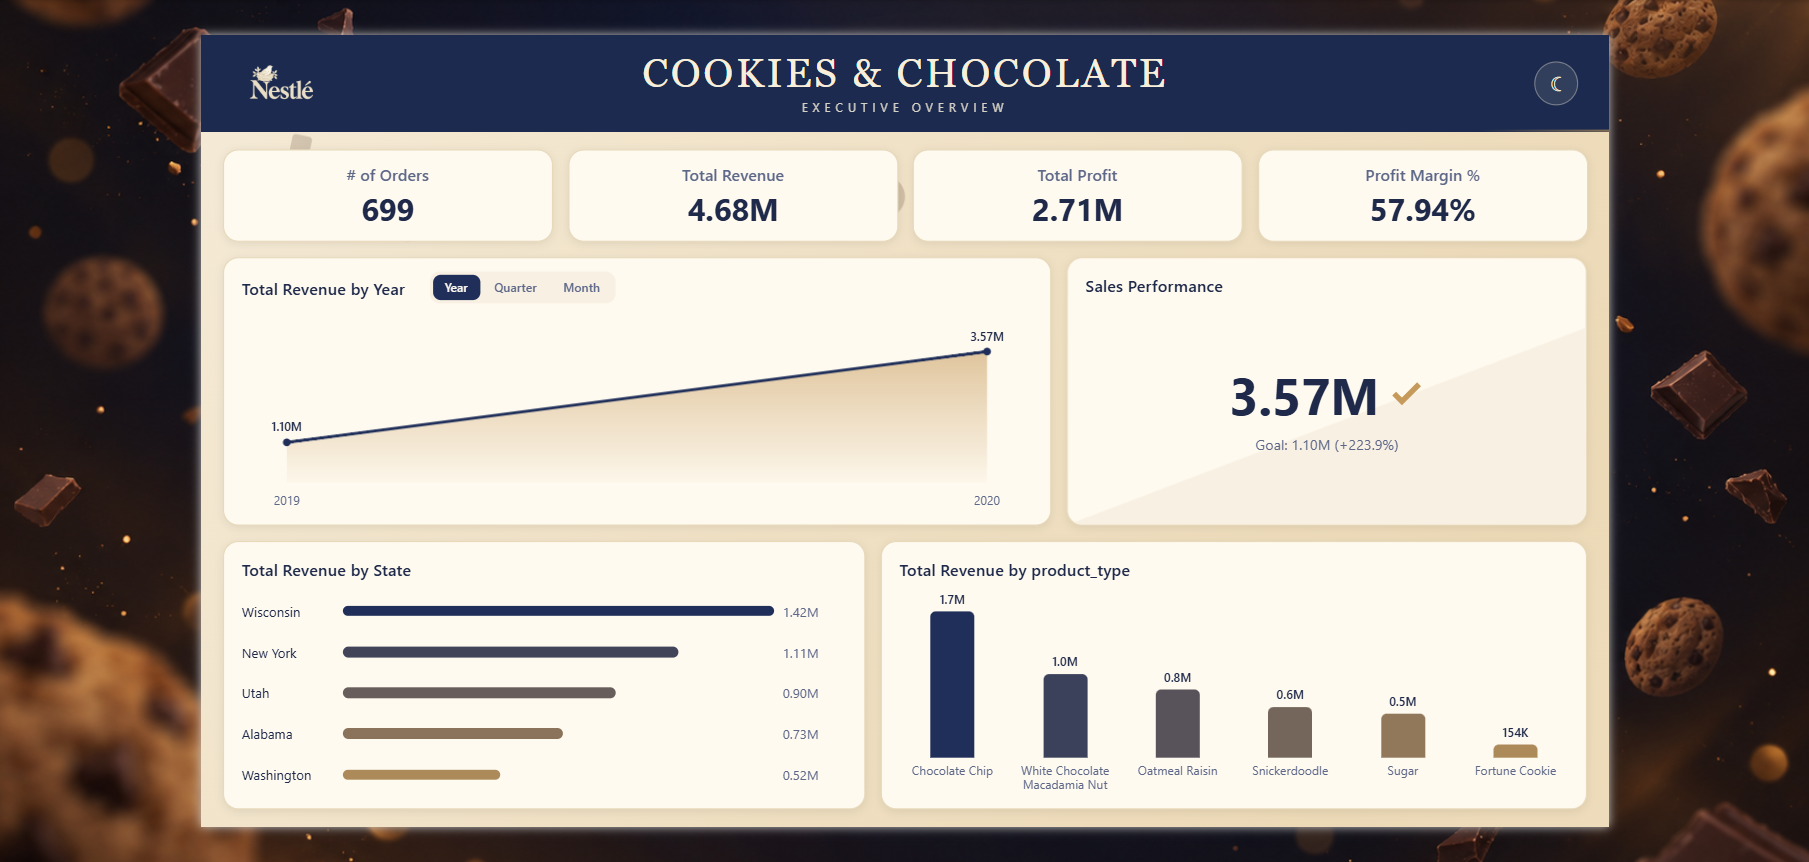

The dashboard page shown, as its layout file describes it:
{"tool":"powerbi","page":{"name":"Overview Page","canvas":[1280,720],"ordinal":1},"visuals":[{"type":"htmlContent443BE3AD55E043BF878BED274D3A6855","fields":{"content":["HTML Visuals.Overview_Page"]},"box":[0,0,1280,720],"z":0}]}

Visuals, with their boxes on the page's 1280x720 design canvas (x1, y1, x2, y2). These are canvas units, not pixel positions in the 1809x862 screenshot, which may show the page scaled, cropped or inside an application window:
htmlContent443BE3AD55E043BF878BED274D3A6855 - HTML Visuals.Overview_Page: (0, 0, 1280, 720)
